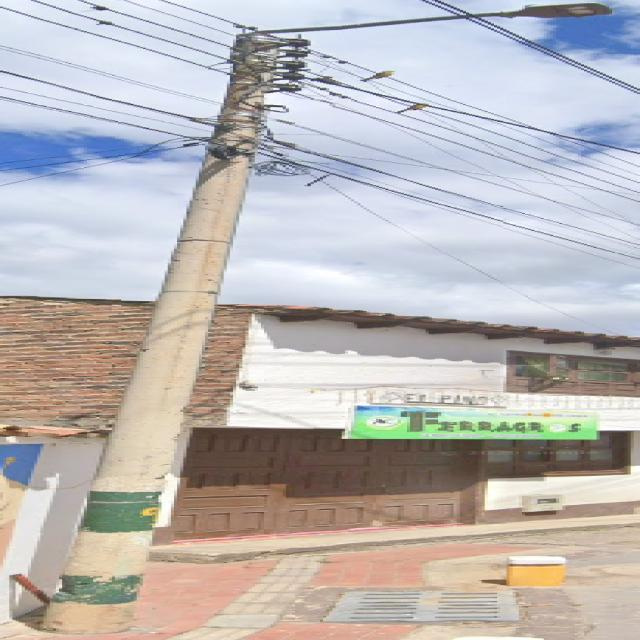Fachada: (158, 305, 637, 542), (3, 296, 149, 424)
Poste: (43, 4, 609, 634)
